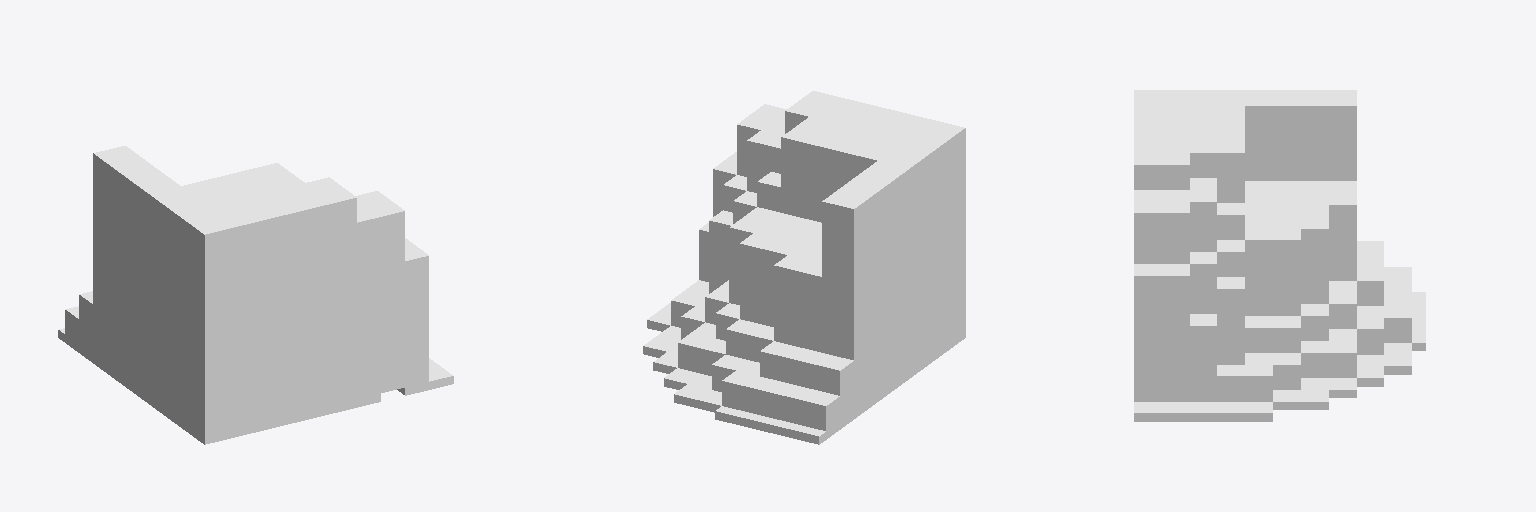
Rendered from MushroomDaddyInterior_01-13.obj.
3 views of the same model, side by side, from view 1: azimuth 30°, elevation 25°; view 2: azimuth 150°, elevation 25°; view 3: azimuth 270°, elevation 25° (orthographic).
Visible parts, largest first — view 1: MushroomDaddyInterior_01-13; view 2: MushroomDaddyInterior_01-13; view 3: MushroomDaddyInterior_01-13.
Boxes of the visible parts, x1,y1,x2,y2 form: MushroomDaddyInterior_01-13: [58, 146, 453, 444]; MushroomDaddyInterior_01-13: [643, 91, 965, 444]; MushroomDaddyInterior_01-13: [1134, 90, 1425, 421].
Bounding box in the file's own units: 124 × 100 × 126.